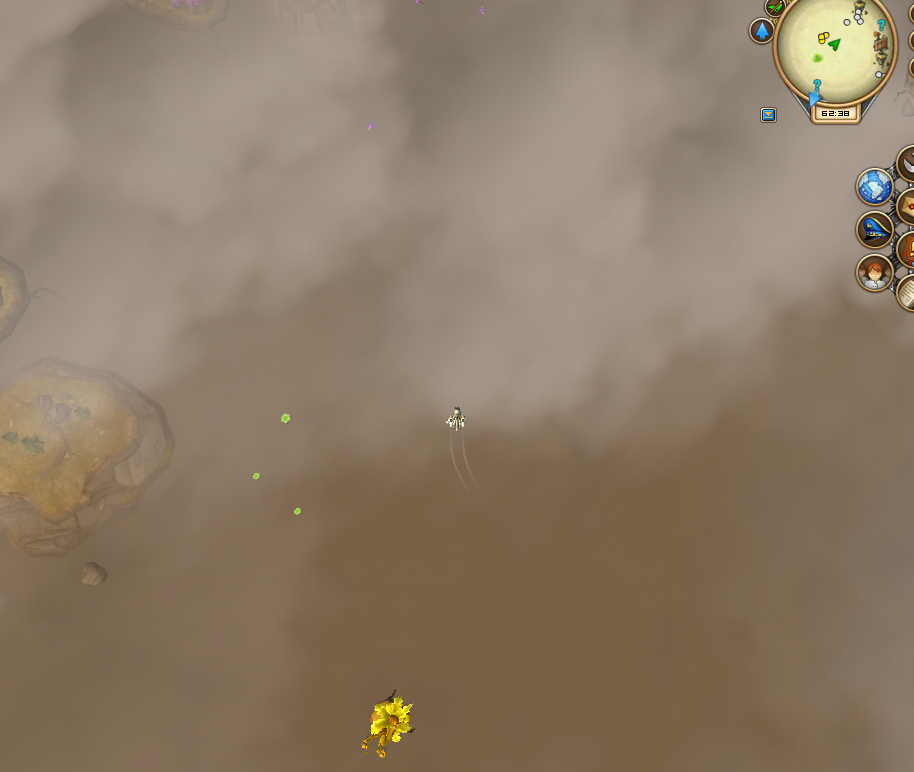dandelion-empty: (356, 682, 419, 763)
fluff: (272, 404, 298, 428), (249, 464, 263, 483), (290, 502, 304, 518)
